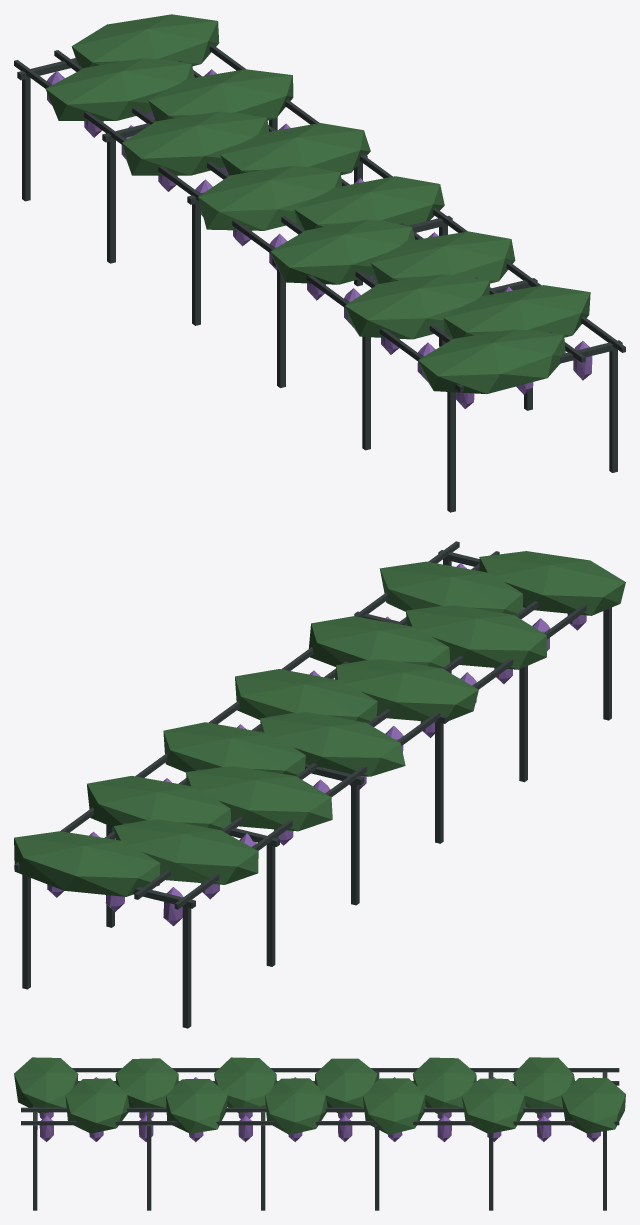
The model's file is pergola.glb.
The picture shows the model from 3 angles, top to bottom: view 1: azimuth 30°, elevation 25°; view 2: azimuth 150°, elevation 25°; view 3: azimuth 270°, elevation 25°; orthographic projection. The views are drawn at different scales.
Visible parts, largest first — view 1: WisteriaLeaves, PergolaUprights, PergolaLongBeams, HangingWisteria, PergolaCrossbeams; view 2: WisteriaLeaves, PergolaUprights, PergolaLongBeams, HangingWisteria, PergolaCrossbeams; view 3: WisteriaLeaves, PergolaLongBeams, HangingWisteria, PergolaUprights, PergolaCrossbeams.
Boxes of the visible parts, x1,y1,x2,y2 form: WisteriaLeaves: (45, 14, 590, 393); PergolaUprights: (22, 66, 617, 512); PergolaLongBeams: (14, 44, 625, 392); HangingWisteria: (47, 69, 592, 408); PergolaCrossbeams: (17, 58, 622, 391); WisteriaLeaves: (14, 551, 625, 896); PergolaUprights: (22, 559, 611, 1028); PergolaLongBeams: (14, 541, 586, 909); HangingWisteria: (47, 563, 586, 926); PergolaCrossbeams: (133, 550, 479, 908); WisteriaLeaves: (14, 1057, 625, 1134); PergolaLongBeams: (21, 1068, 619, 1125); HangingWisteria: (39, 1077, 600, 1141); PergolaUprights: (33, 1130, 606, 1210); PergolaCrossbeams: (33, 1071, 607, 1129).
Size of the model in its own units: 5.59 by 3.88 by 21.48.
